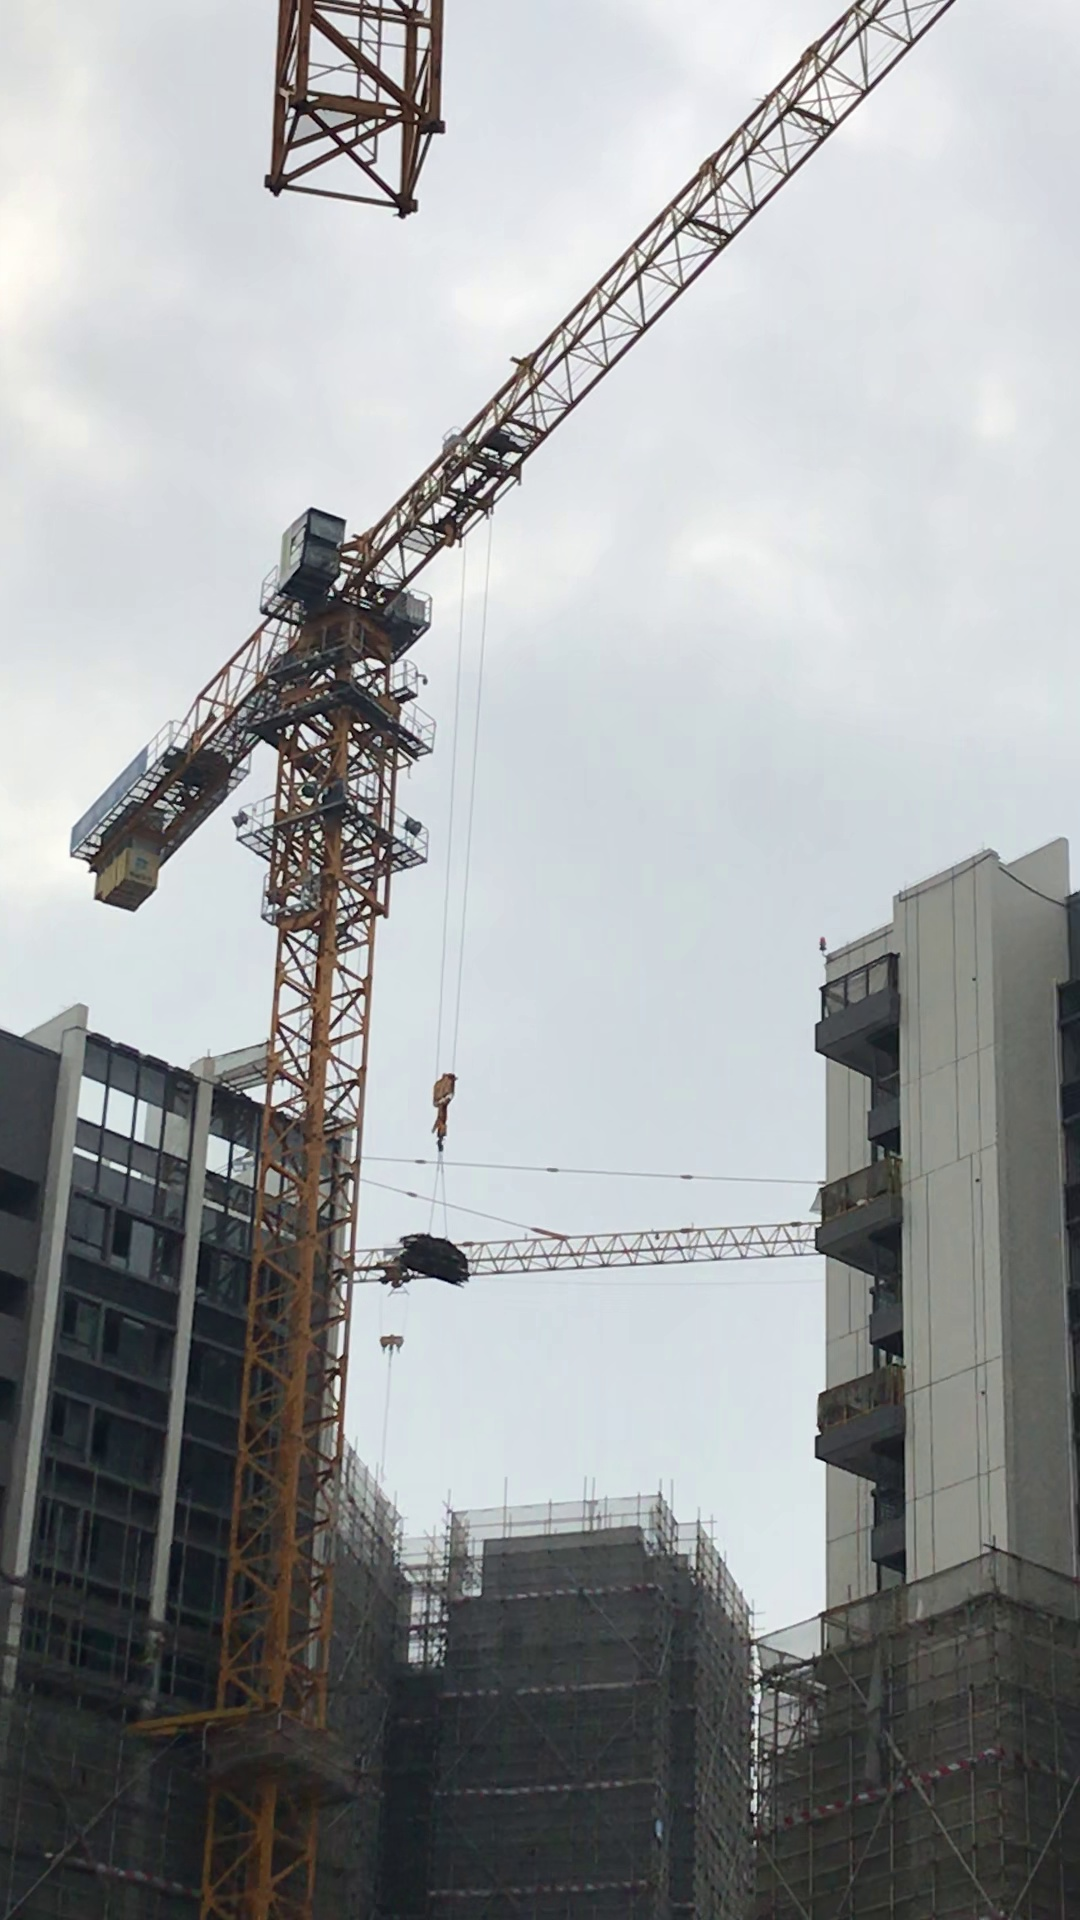board: (396, 1229, 469, 1292)
hook: (427, 1075, 458, 1153), (378, 1333, 405, 1360)
